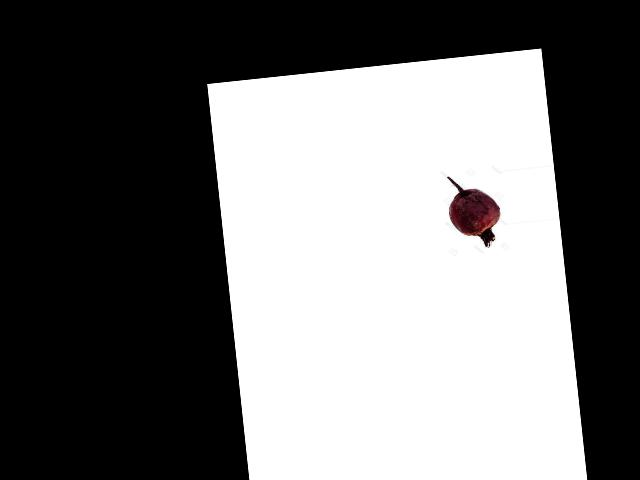beet: (445, 172, 502, 250)
